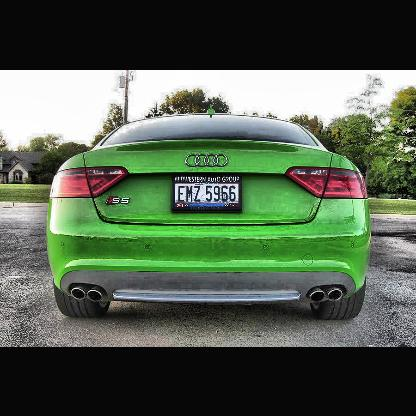Audi S5 Coupe 2012: (50, 104, 373, 322)
